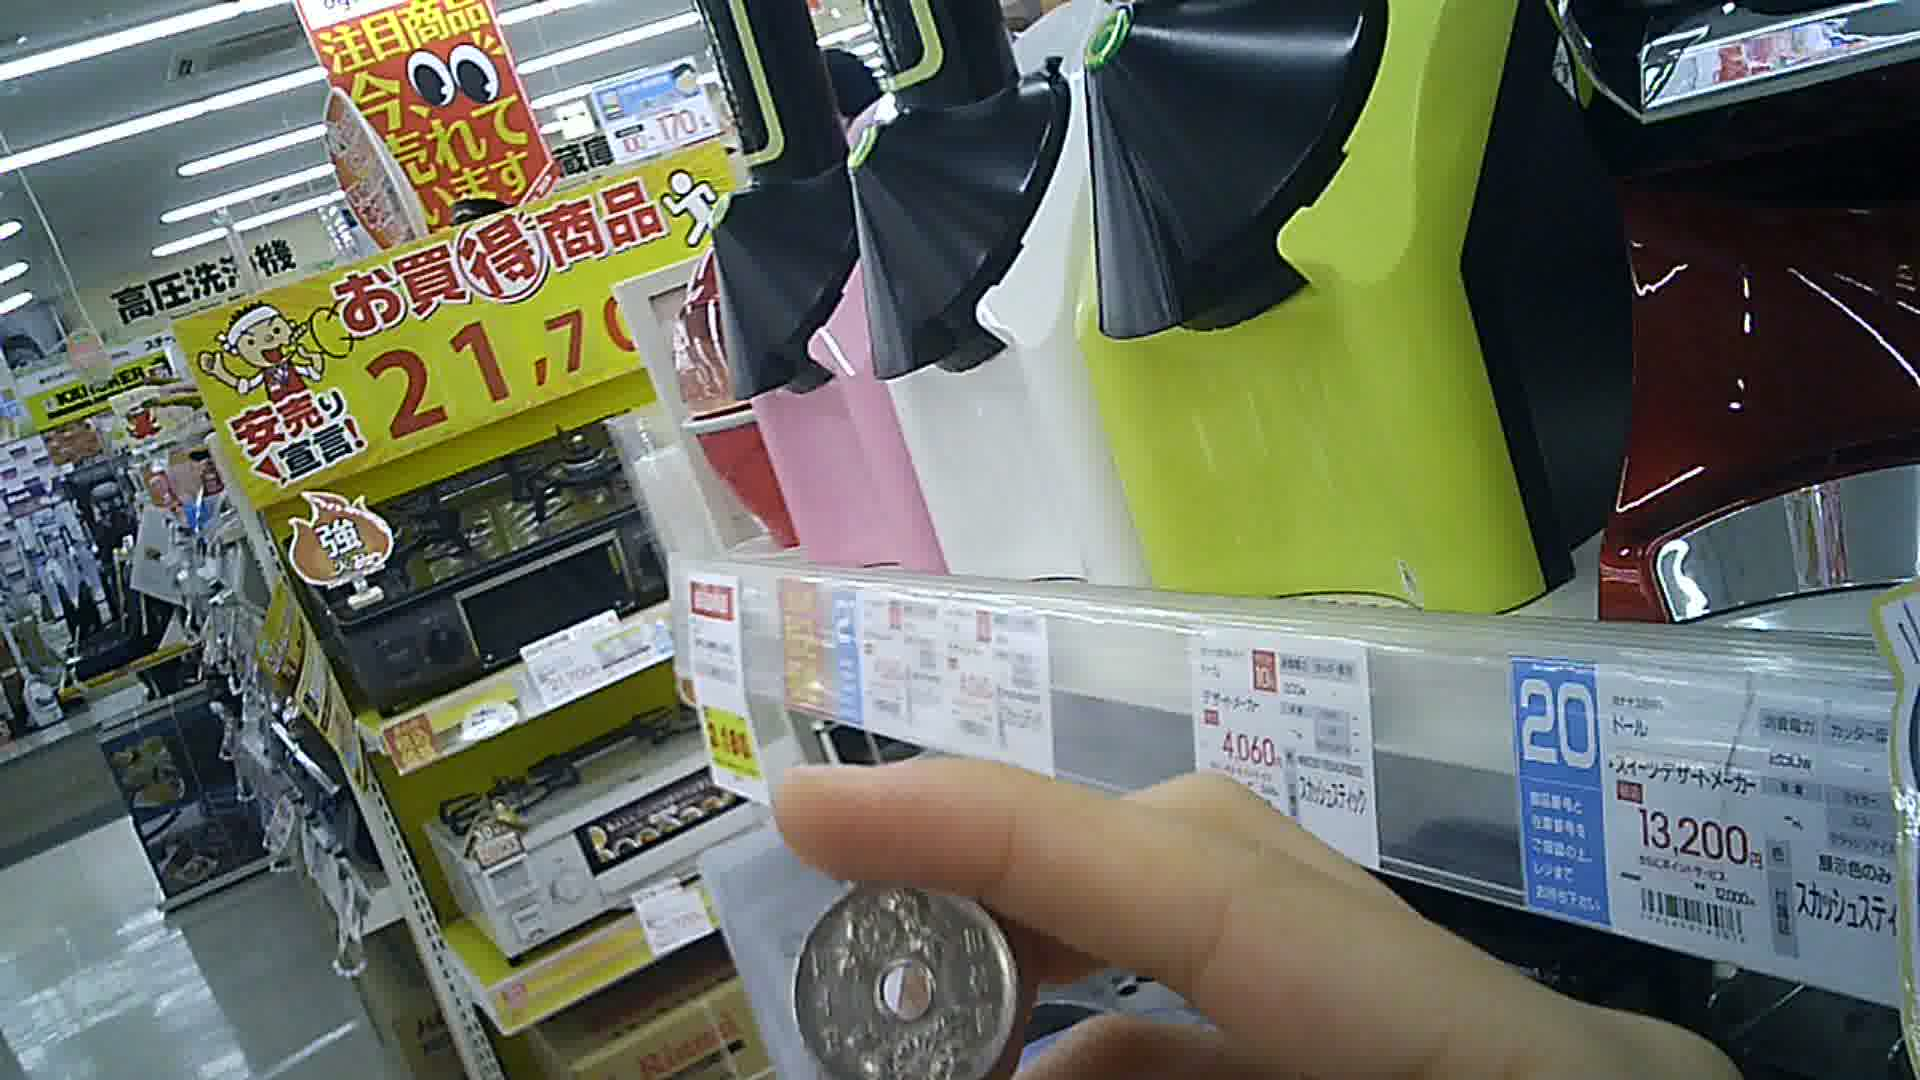50 Yen: (781, 868, 1040, 1079)
